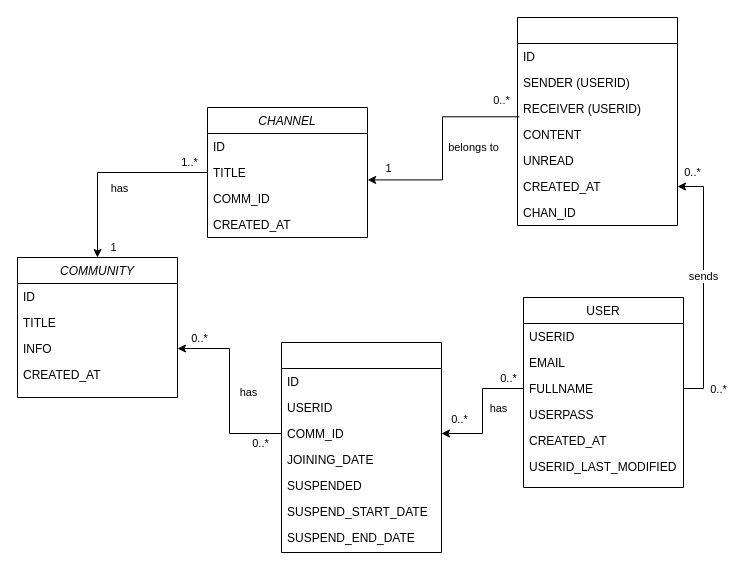
The diagram is 744 pixels wide and 571 high, and some of its shapes have lost their labels. Each missing label, with the box of its shape:
MEMBERSHIP: (280, 342, 442, 552)
MESSAGE: (516, 16, 678, 226)
